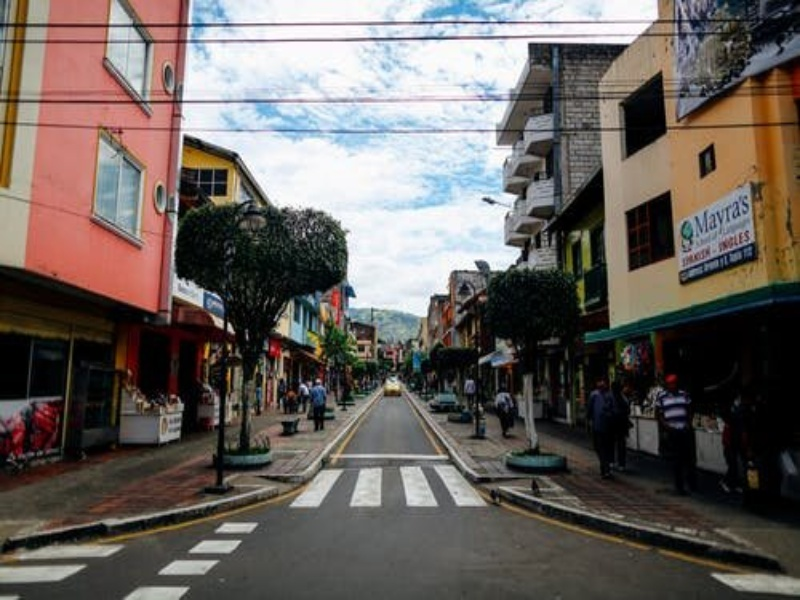zebra cross: (285, 463, 492, 510), (1, 533, 124, 597)
